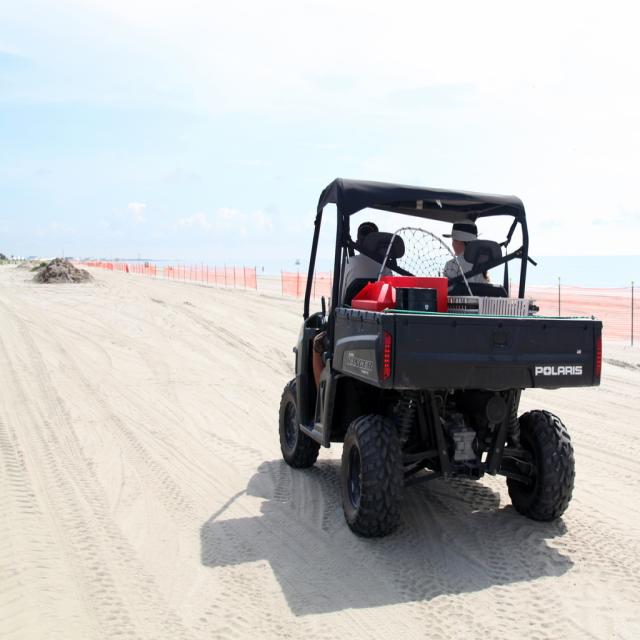car: (279, 176, 604, 532)
